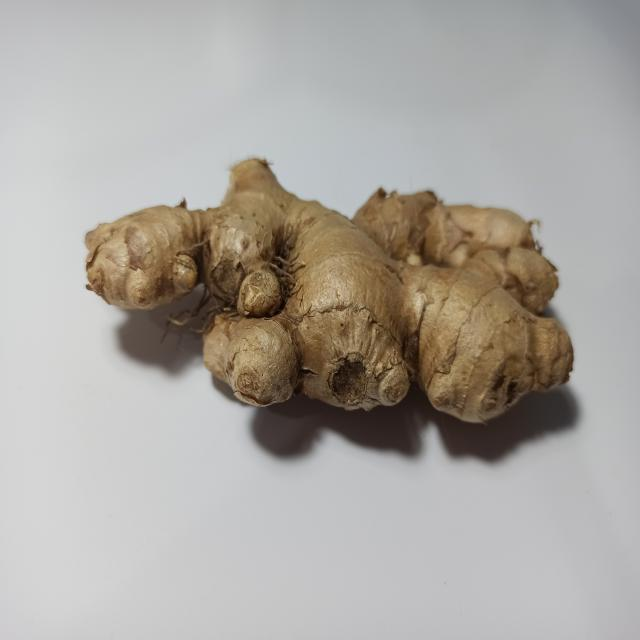ginger: (87, 161, 573, 416)
